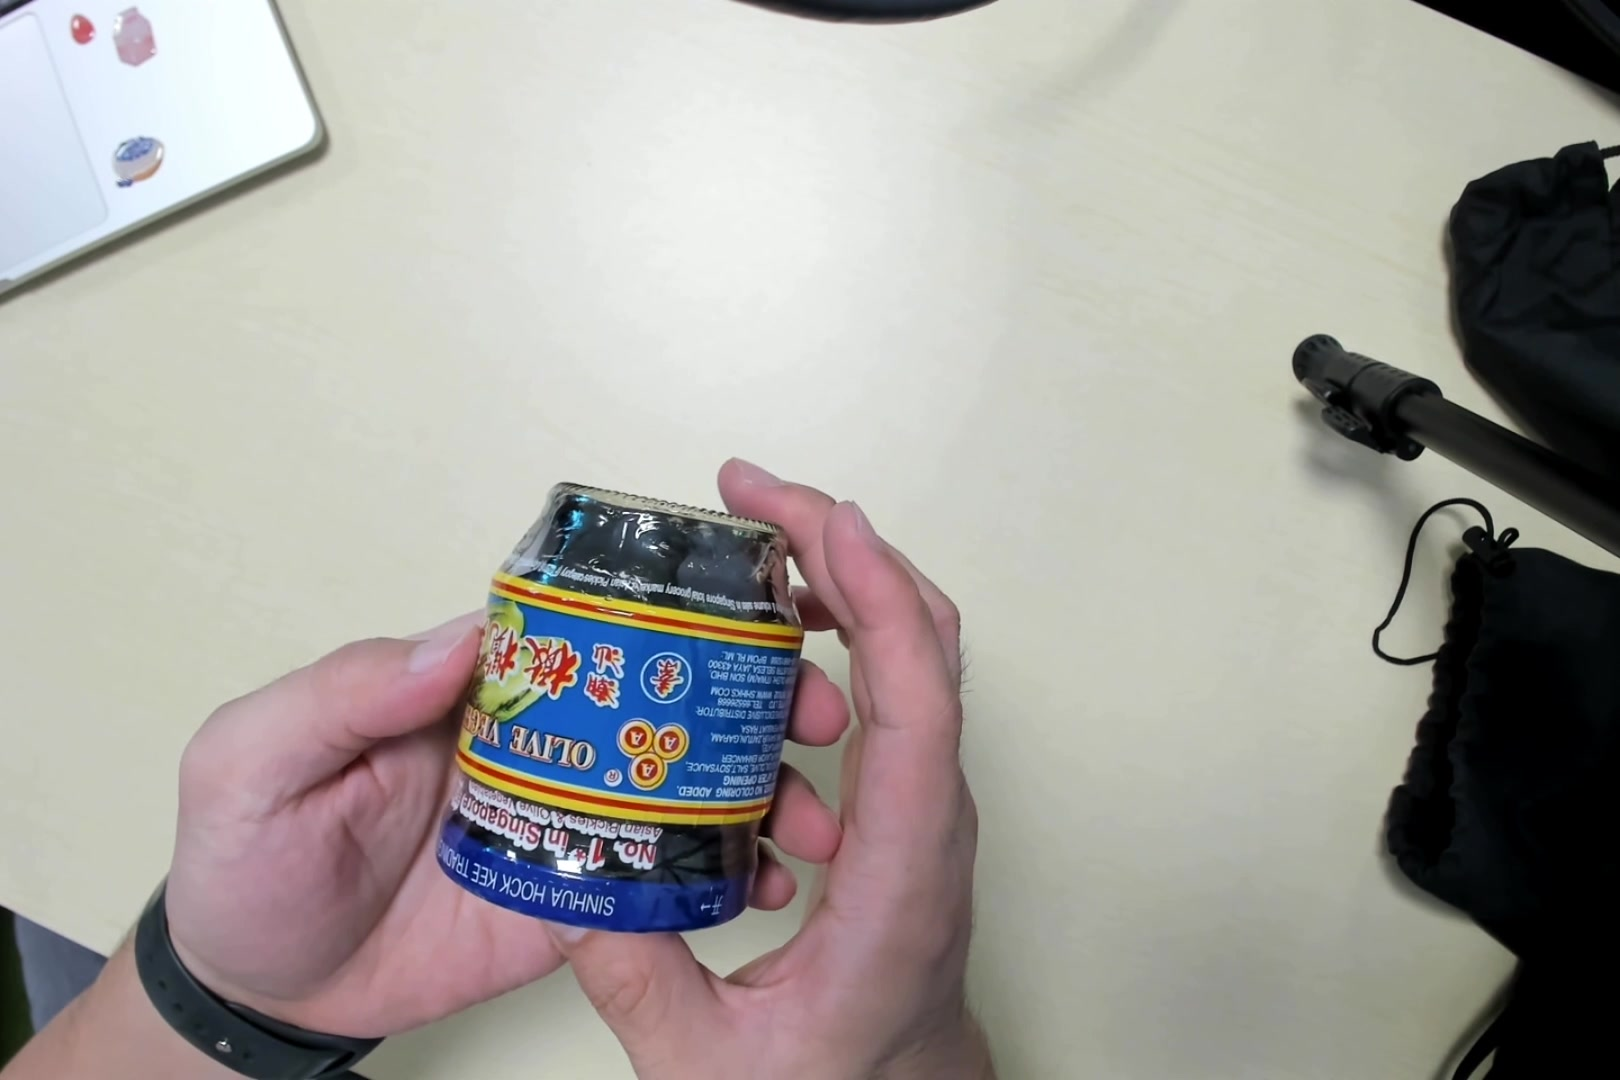CannedPickles_100-199g_NonHalal_NonHealthy: (433, 474, 800, 937)
